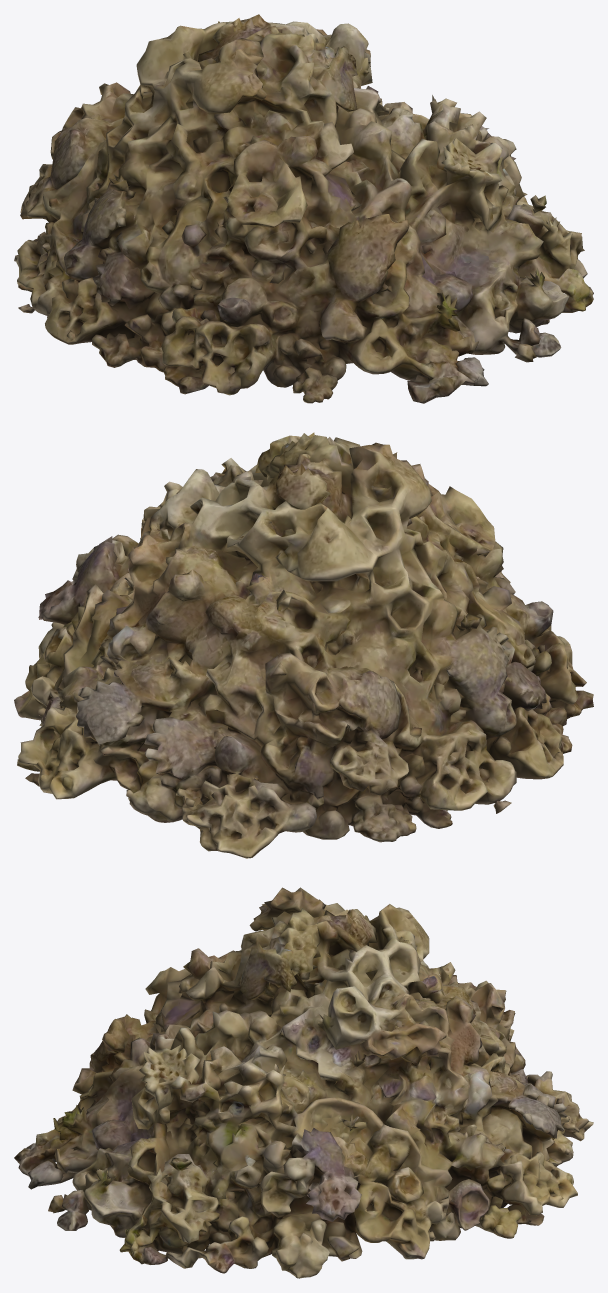
File: rock_f.glb
The picture shows the model from 3 angles, top to bottom: view 1: azimuth 30°, elevation 25°; view 2: azimuth 150°, elevation 25°; view 3: azimuth 270°, elevation 25°; orthographic projection. The views are drawn at different scales.
Visible parts, largest first — view 1: tripo_node_ca4f0c16-cb93-490a-aa21-376772f2dc65; view 2: tripo_node_ca4f0c16-cb93-490a-aa21-376772f2dc65; view 3: tripo_node_ca4f0c16-cb93-490a-aa21-376772f2dc65.
Part boxes in pixels (x1=…): tripo_node_ca4f0c16-cb93-490a-aa21-376772f2dc65: x1=14, y1=14, x2=593, y2=403; tripo_node_ca4f0c16-cb93-490a-aa21-376772f2dc65: x1=14, y1=432, x2=593, y2=858; tripo_node_ca4f0c16-cb93-490a-aa21-376772f2dc65: x1=14, y1=887, x2=593, y2=1278.
Size of the model in its own units: 0.9047 by 0.4774 by 1.
Materials: 1 (1 with a texture image).
